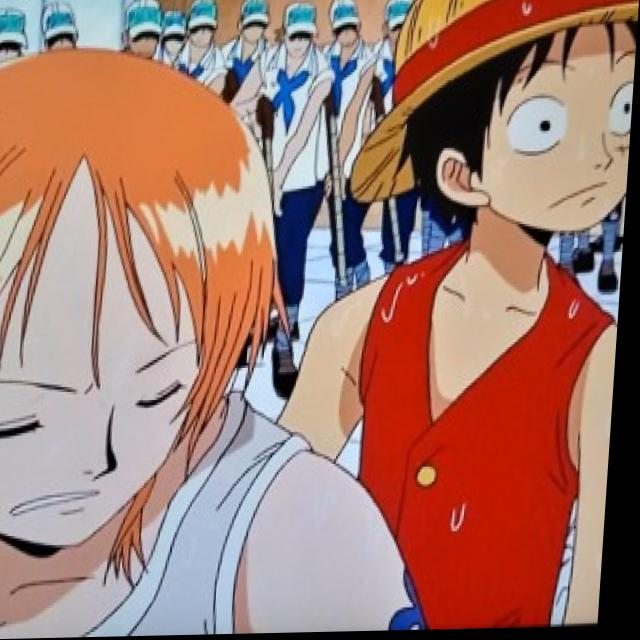Luffy: (350, 0, 640, 253)
Nami: (0, 50, 285, 557)
